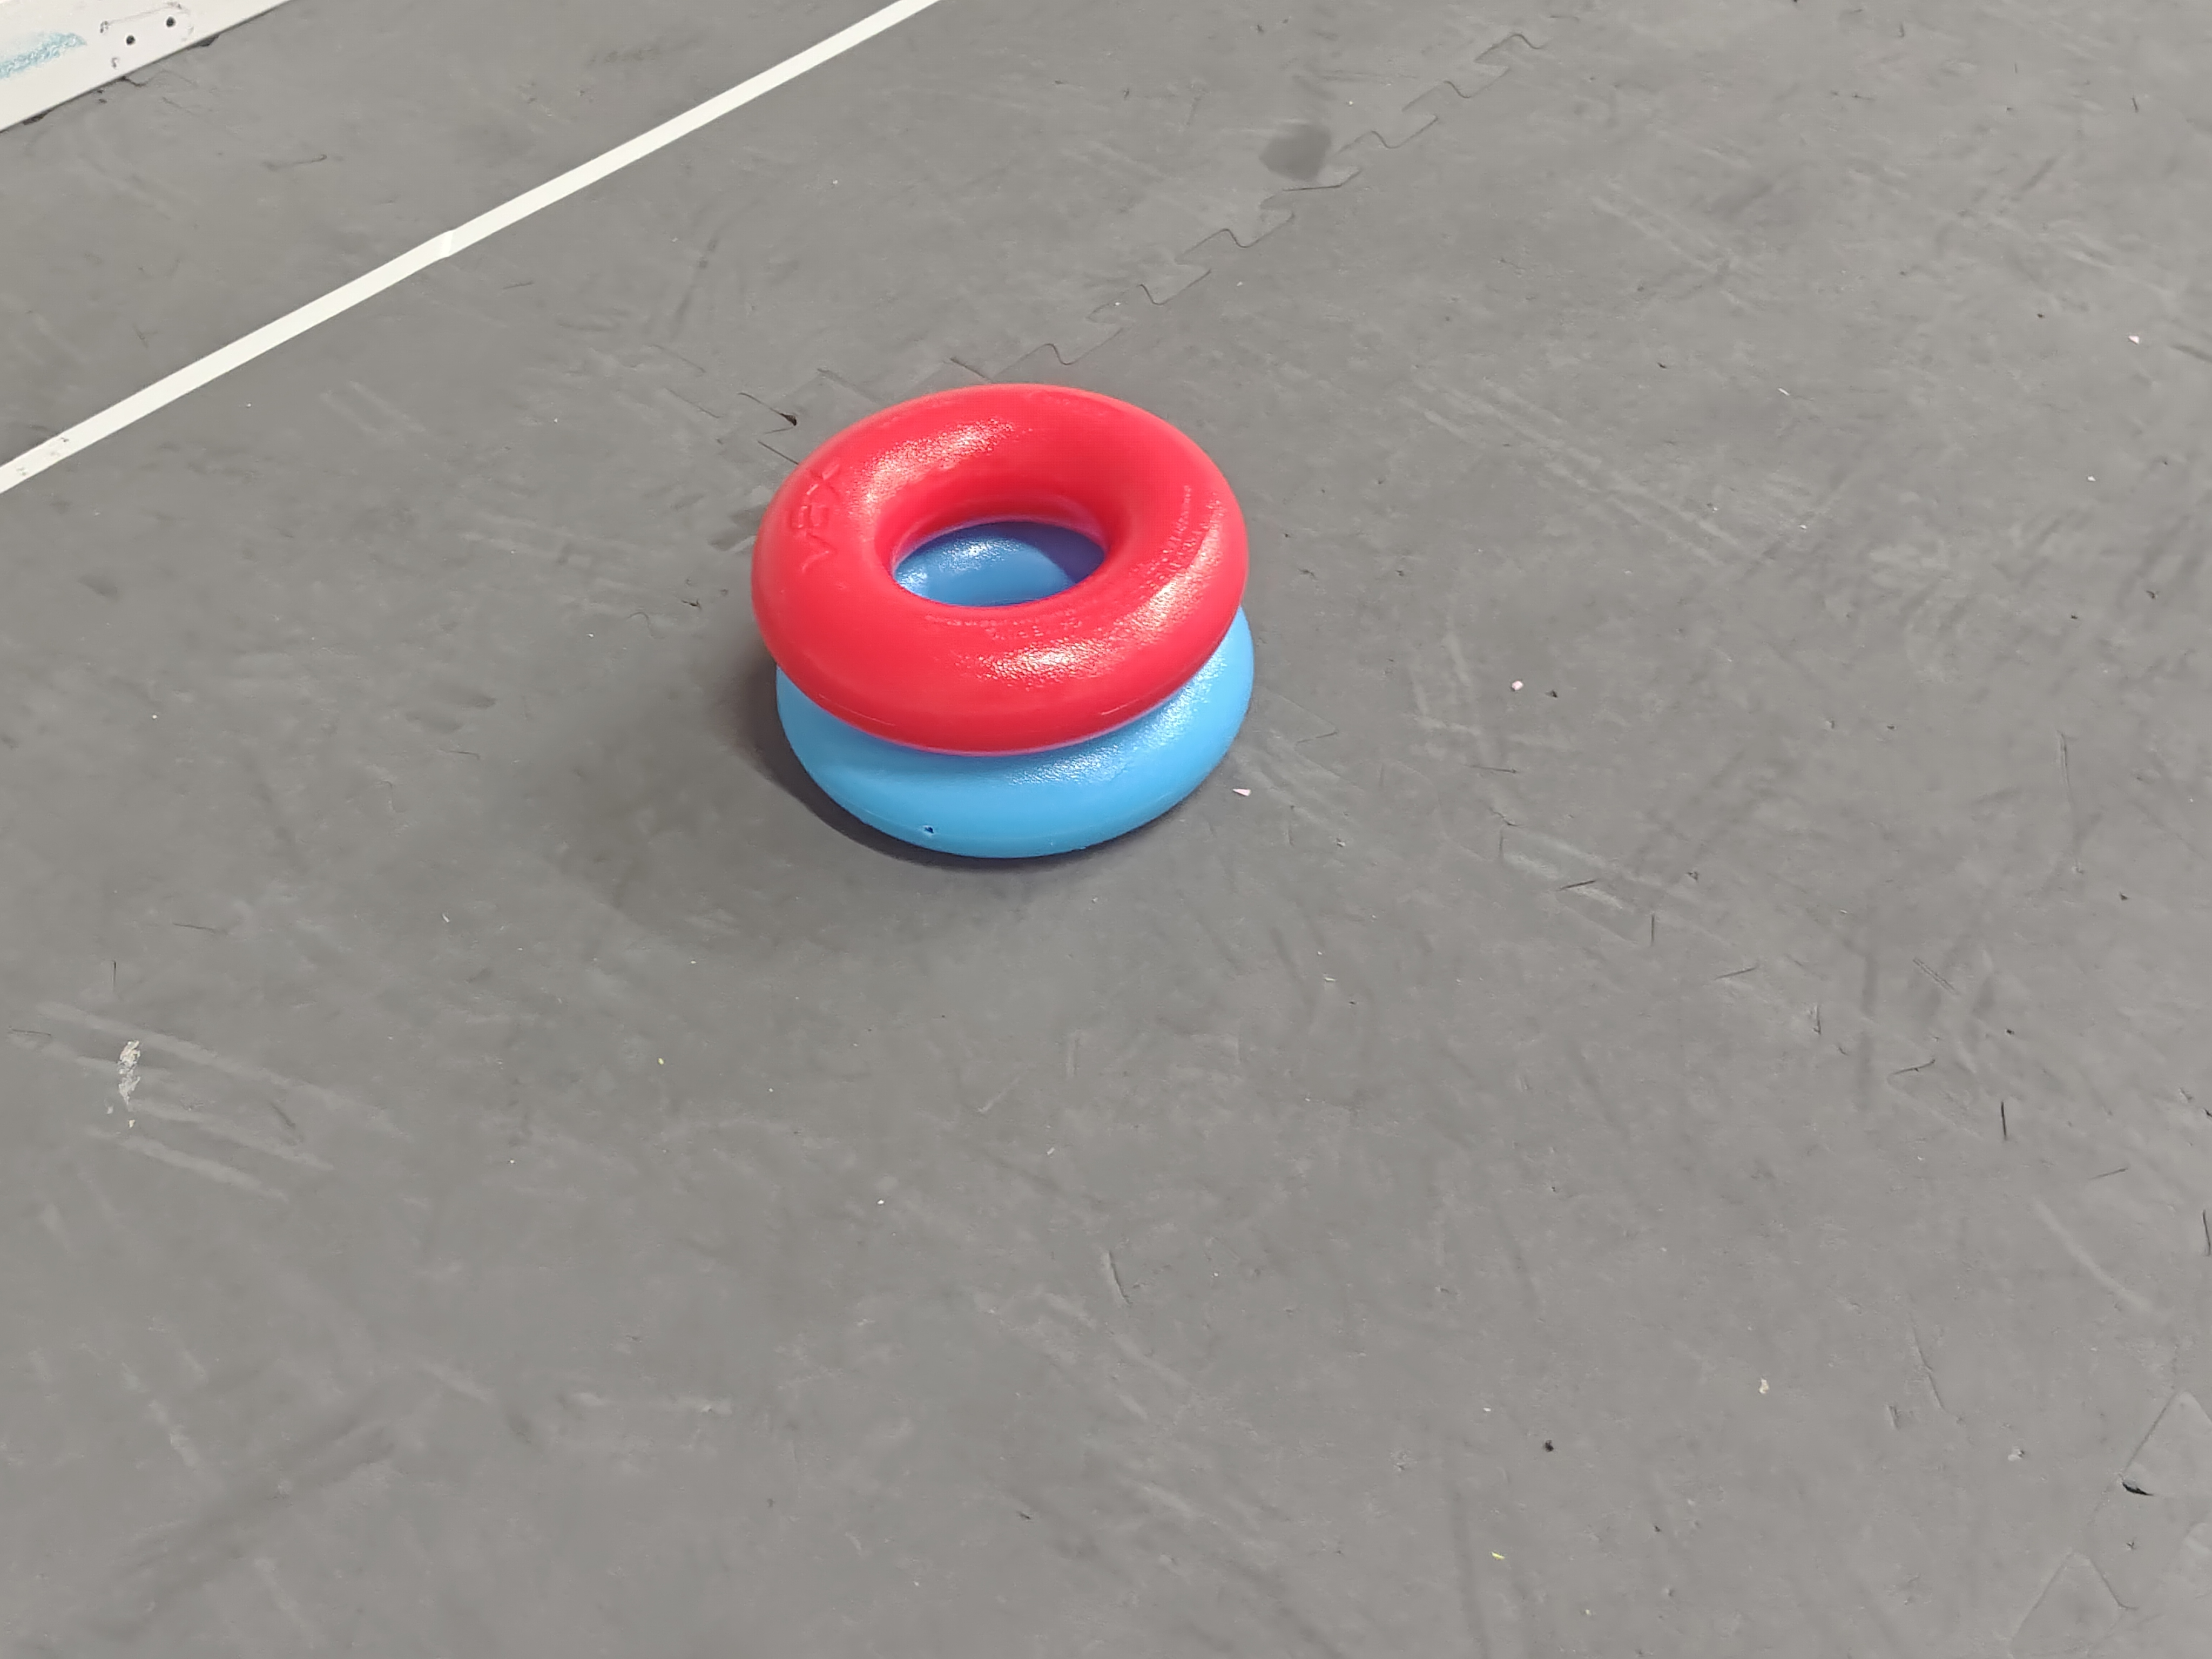blue: (773, 498, 1258, 880)
red: (747, 385, 1251, 755)
